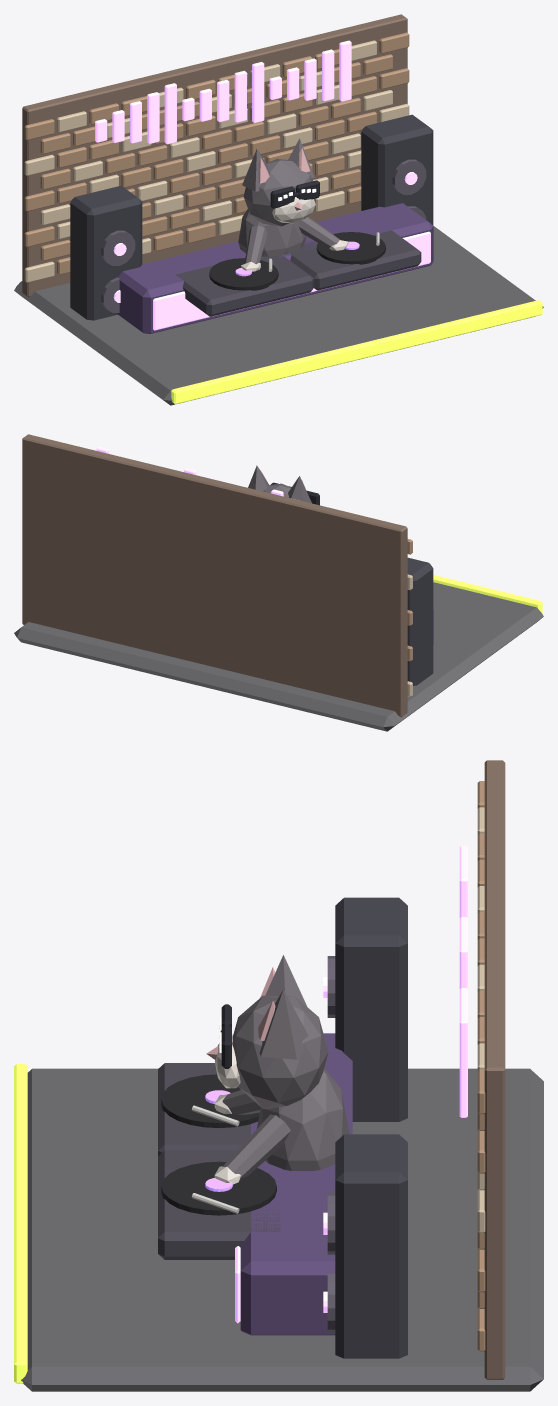
Rendered from scratch.glb.
3 renders of one model, top to bottom at view 1: azimuth 30°, elevation 25°; view 2: azimuth 150°, elevation 25°; view 3: azimuth 270°, elevation 25°, orthographic. The views are drawn at different scales.
Visible parts, largest first — view 1: Stage_Platform, BrickWall, DJBooth, Speaker_-1, Stage_Trim, Speaker_1, Platter_L_Body, Platter_R_Body, DJBoothGlow, CatHead, CatBody, Platter_L (+58 smaller); view 2: BrickWall, Stage_Platform, Speaker_-1, Stage_Trim; view 3: Stage_Platform, Speaker_1, Speaker_-1, DJBooth, BrickWall, CatHead, Platter_R_Body, CatBody, Stage_Trim, Platter_R, Platter_L_Body, Platter_L (+4 smaller).
Part boxes in pixels (x1,y1,x2,y2): Stage_Platform: [14, 226, 543, 405]; BrickWall: [22, 14, 407, 297]; DJBooth: [117, 203, 433, 333]; Speaker_-1: [70, 185, 142, 320]; Stage_Trim: [171, 300, 542, 404]; Speaker_1: [361, 114, 433, 225]; Platter_L_Body: [176, 255, 313, 316]; Platter_R_Body: [289, 227, 421, 290]; DJBoothGlow: [153, 231, 430, 330]; CatHead: [243, 158, 312, 226]; CatBody: [238, 209, 306, 256]; Platter_L: [209, 258, 278, 290]; BrickWall: [22, 434, 407, 717]; Stage_Platform: [14, 582, 543, 731]; Speaker_-1: [407, 557, 433, 685]; Stage_Trim: [433, 575, 542, 613]; Stage_Platform: [21, 1068, 543, 1391]; Speaker_1: [335, 1134, 407, 1358]; Speaker_-1: [335, 897, 407, 1121]; DJBooth: [240, 1033, 352, 1335]; BrickWall: [484, 760, 505, 1379]; CatHead: [232, 995, 328, 1108]; Platter_R_Body: [158, 1150, 280, 1259]; CatBody: [256, 1068, 349, 1170]; Stage_Trim: [14, 1064, 27, 1383]; Platter_R: [161, 1161, 276, 1215]; Platter_L_Body: [158, 1063, 250, 1155]; Platter_L: [161, 1074, 259, 1127].
Bounding box in the file's own units: 8.57 × 4.21 × 6.15.
